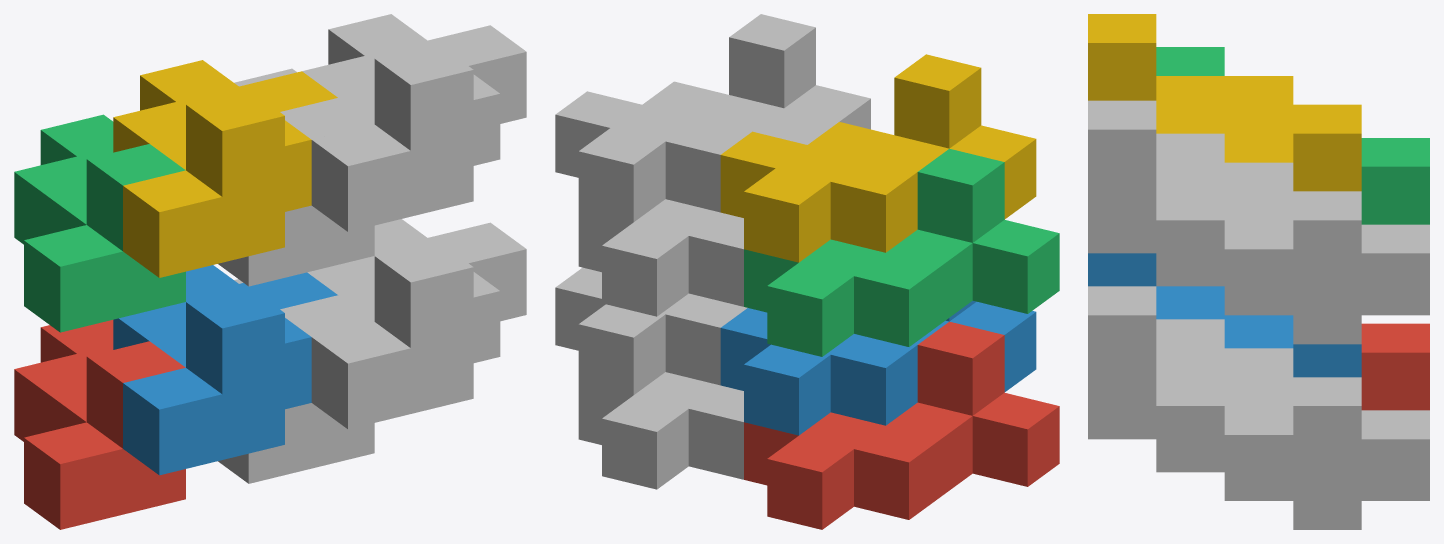
Rendered from tiling.obj.
3 renders of one model, left to right at view 1: azimuth 30°, elevation 25°; view 2: azimuth 150°, elevation 25°; view 3: azimuth 270°, elevation 25°, orthographic. The views are drawn at different scales.
Visible parts, largest first — view 1: copy_1_domain_8, copy_1_domain_4, copy_1_domain_6, copy_1_domain_2, copy_1_domain_3, copy_1_domain_1, copy_1_domain_7, copy_1_domain_5; view 2: copy_1_domain_1, copy_1_domain_3, copy_1_domain_4, copy_1_domain_8, copy_1_domain_2, copy_1_domain_7, copy_1_domain_5, copy_1_domain_6; view 3: copy_1_domain_8, copy_1_domain_6, copy_1_domain_4, copy_1_domain_7, copy_1_domain_5, copy_1_domain_2, copy_1_domain_3, copy_1_domain_1.
Boxes of the visible parts, <box> form: copy_1_domain_8: <box>302,14,526,231</box>; copy_1_domain_4: <box>113,60,337,277</box>; copy_1_domain_6: <box>307,219,526,429</box>; copy_1_domain_2: <box>113,265,337,475</box>; copy_1_domain_3: <box>14,114,185,332</box>; copy_1_domain_1: <box>14,320,185,529</box>; copy_1_domain_7: <box>218,68,374,286</box>; copy_1_domain_5: <box>218,279,374,483</box>; copy_1_domain_1: <box>744,321,1059,529</box>; copy_1_domain_3: <box>744,148,1059,356</box>; copy_1_domain_4: <box>720,54,1036,262</box>; copy_1_domain_8: <box>555,14,870,222</box>; copy_1_domain_2: <box>720,301,1036,435</box>; copy_1_domain_7: <box>578,108,838,316</box>; copy_1_domain_5: <box>578,372,743,489</box>; copy_1_domain_6: <box>555,267,747,395</box>; copy_1_domain_8: <box>1088,100,1361,310</box>; copy_1_domain_6: <box>1088,286,1361,496</box>; copy_1_domain_4: <box>1088,14,1361,191</box>; copy_1_domain_7: <box>1156,133,1429,344</box>; copy_1_domain_5: <box>1156,319,1429,529</box>; copy_1_domain_2: <box>1088,253,1361,377</box>; copy_1_domain_3: <box>1156,47,1429,224</box>; copy_1_domain_1: <box>1361,323,1429,410</box>.
Bounding box in the file's own units: 8 × 6 × 5.
